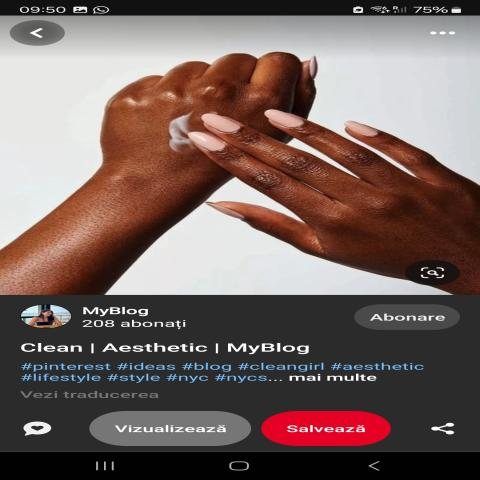hands: (171, 104, 480, 286)
